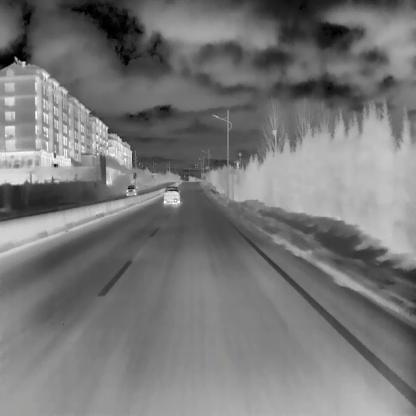car: (163, 184, 180, 205), (125, 184, 136, 196)
